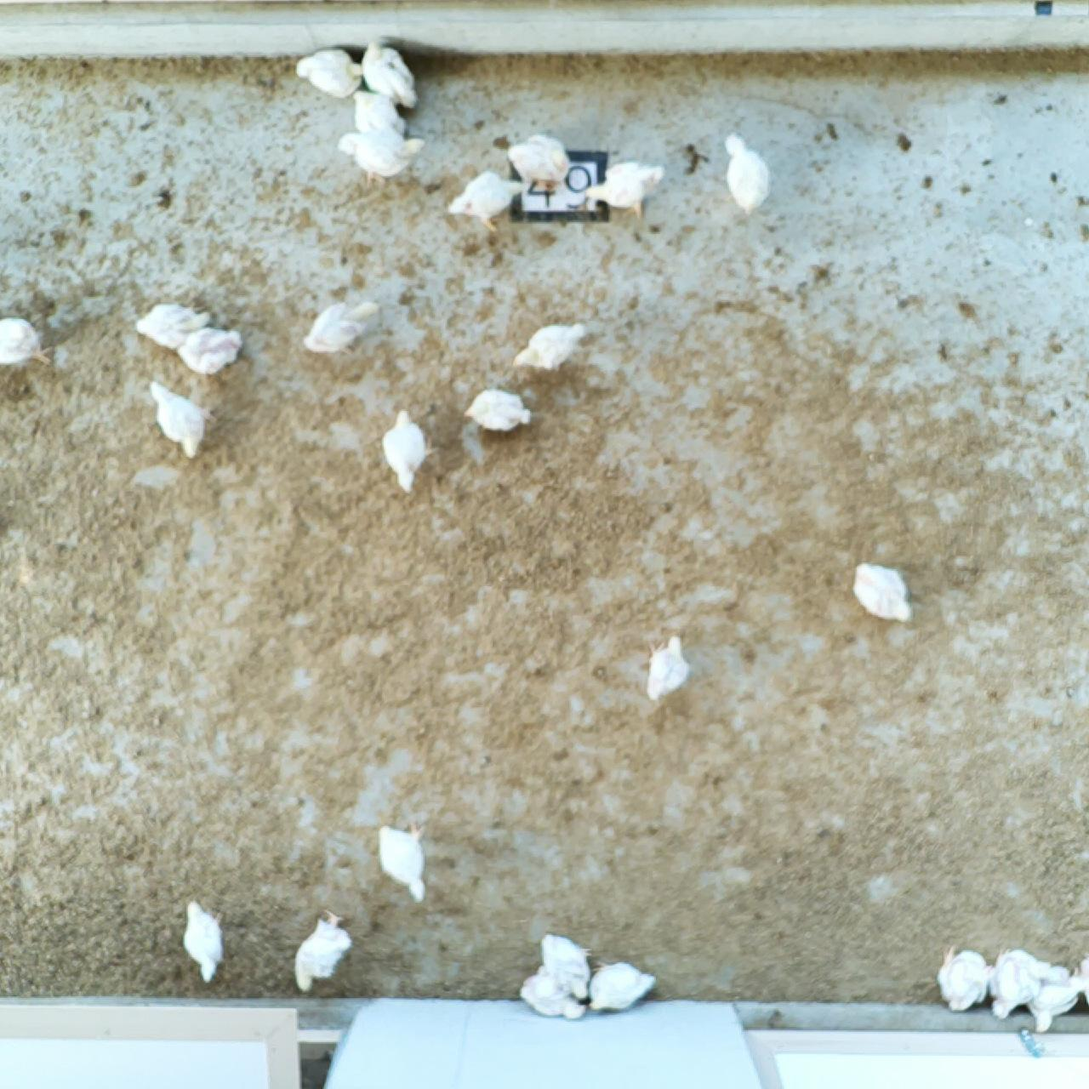chicken: (146, 379, 217, 458), (292, 908, 354, 989), (378, 408, 436, 492), (588, 158, 664, 221), (448, 169, 521, 231), (339, 131, 423, 181), (377, 825, 425, 908), (361, 37, 417, 108), (303, 298, 375, 352), (724, 134, 770, 215), (852, 559, 912, 621), (989, 949, 1043, 1017), (517, 967, 589, 1018), (938, 945, 989, 1012), (135, 301, 210, 346), (460, 389, 533, 435), (540, 933, 590, 999), (590, 959, 657, 1008), (296, 48, 361, 97), (512, 327, 584, 371), (184, 901, 224, 978), (351, 88, 407, 142), (1032, 967, 1077, 1030), (175, 329, 237, 373), (1, 319, 54, 370), (650, 635, 687, 704), (505, 136, 557, 182), (1073, 951, 1089, 1004)
